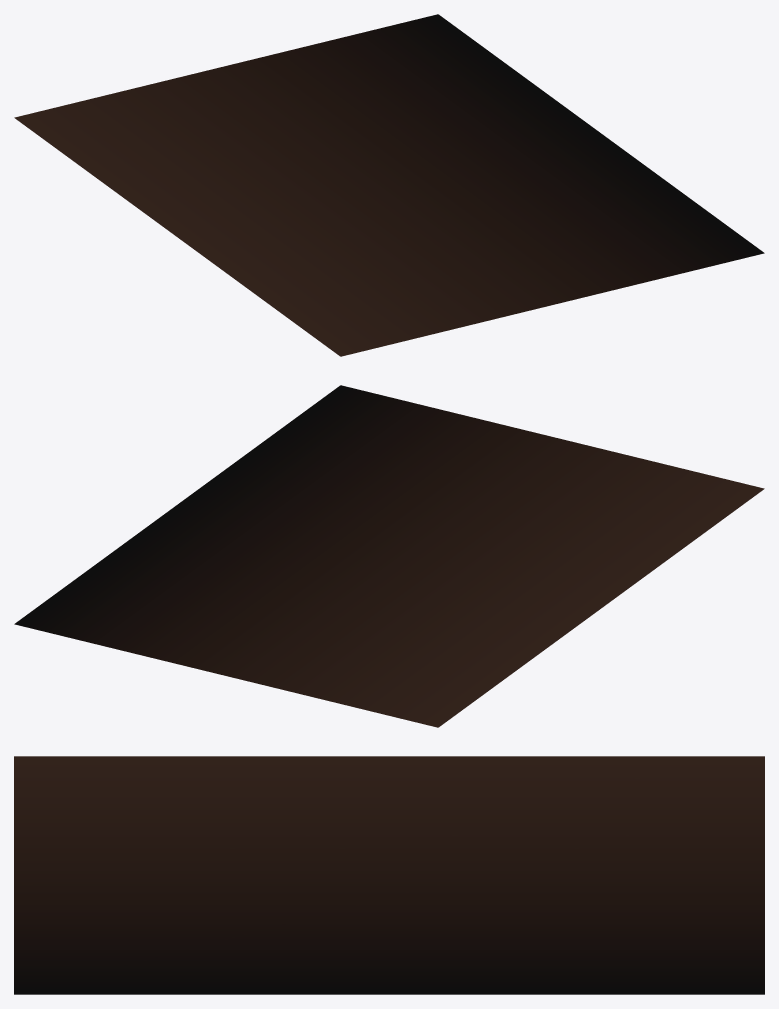
The picture shows the model from 3 angles, top to bottom: view 1: azimuth 30°, elevation 25°; view 2: azimuth 150°, elevation 25°; view 3: azimuth 270°, elevation 25°; orthographic projection. The views are drawn at different scales.
Bounding box in the file's own units: 0.75 × 0 × 1.
Materials: 1 (1 with a texture image).
